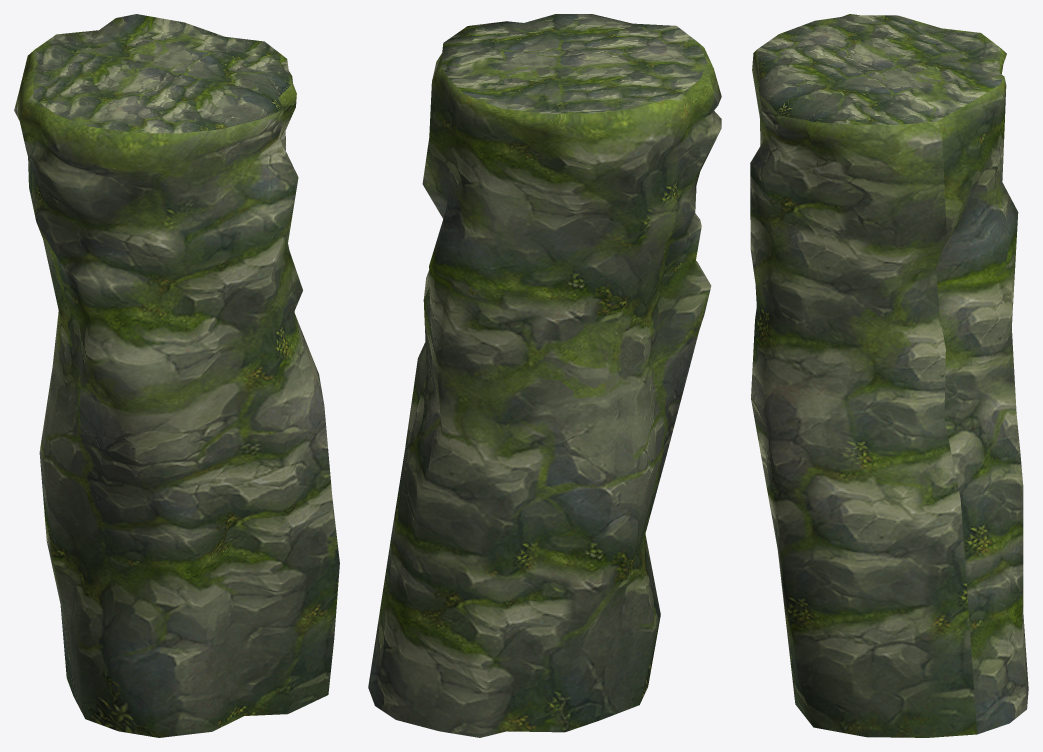
The model's file is Item_3002_yuanpan_dizuoshitou.FBX.
3 views of the same model, side by side, from view 1: azimuth 30°, elevation 25°; view 2: azimuth 150°, elevation 25°; view 3: azimuth 270°, elevation 25° (orthographic). The views are drawn at different scales.
Visible parts, largest first — view 1: Item_3002_yuanpan_dizuoshitou; view 2: Item_3002_yuanpan_dizuoshitou; view 3: Item_3002_yuanpan_dizuoshitou.
Part boxes in pixels (left/top/right/bottom): Item_3002_yuanpan_dizuoshitou: left=14, top=14, right=339, bottom=737; Item_3002_yuanpan_dizuoshitou: left=368, top=14, right=721, bottom=737; Item_3002_yuanpan_dizuoshitou: left=750, top=14, right=1028, bottom=737.
Bounding box in the file's own units: 6293 × 13068 × 5495.
